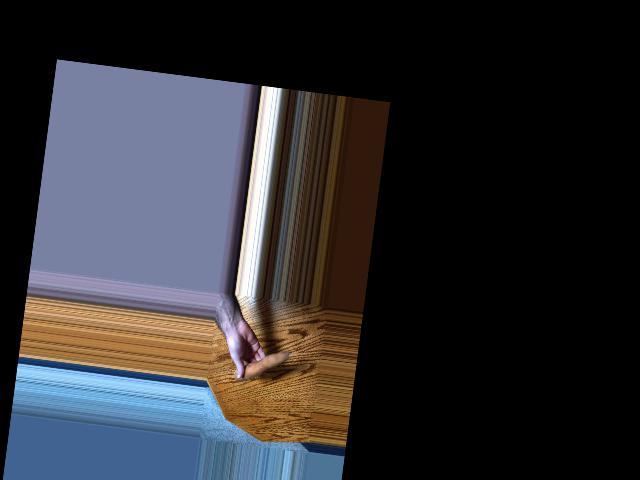sweet_potato: (231, 344, 289, 387)
